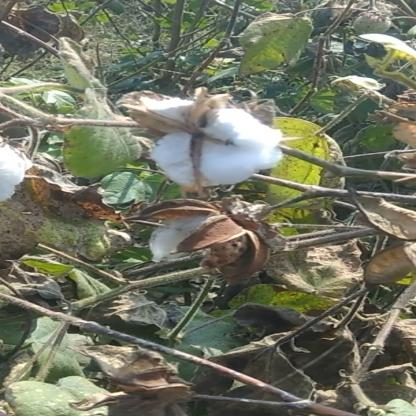cotton_ready: (118, 90, 285, 197)
